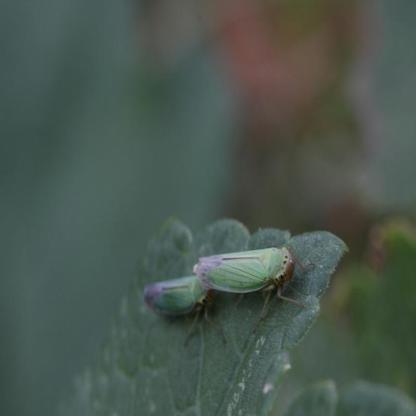Green-Leafhopper: (194, 243, 313, 307), (142, 267, 217, 323)
